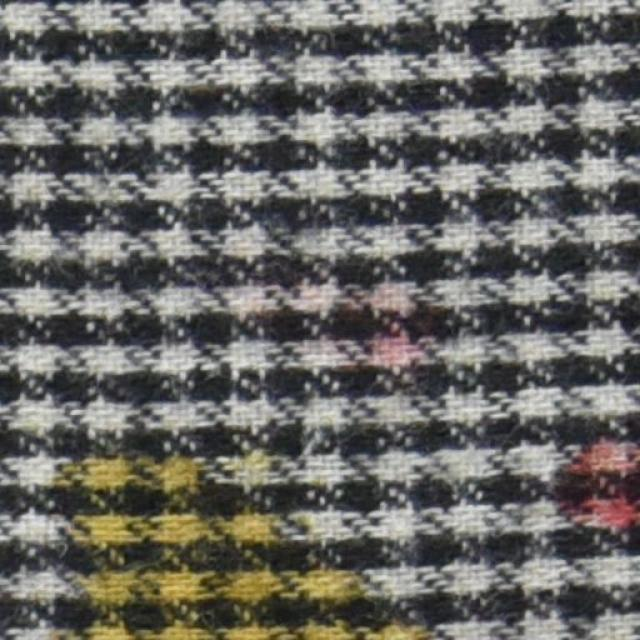Stain: (46, 435, 440, 639), (318, 278, 449, 391), (564, 437, 639, 560)
